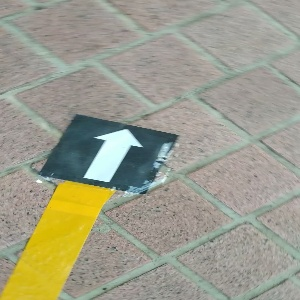straight: (40, 114, 180, 193)
